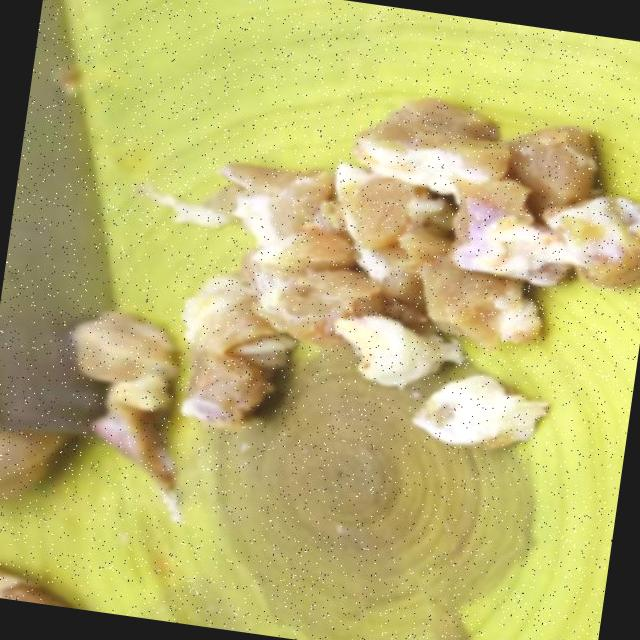pork: (37, 292, 189, 498), (165, 269, 302, 440), (347, 88, 501, 196), (400, 375, 550, 472), (406, 256, 543, 352), (530, 191, 640, 301), (444, 202, 574, 290), (208, 148, 320, 238), (494, 119, 596, 212), (262, 270, 372, 354), (328, 311, 439, 391), (346, 229, 441, 303), (247, 212, 342, 276), (332, 184, 412, 254)
